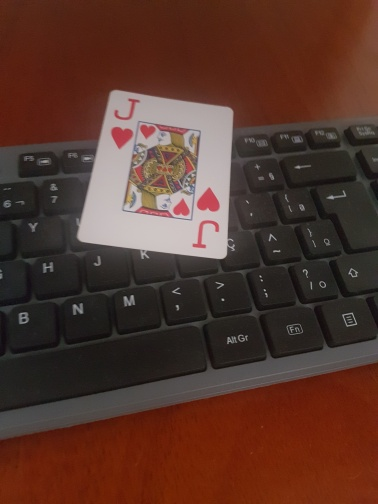jack: (77, 91, 235, 259)
